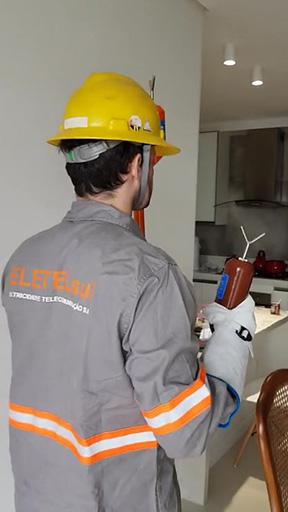Detector_Tensao_Contato: (214, 225, 267, 311)
